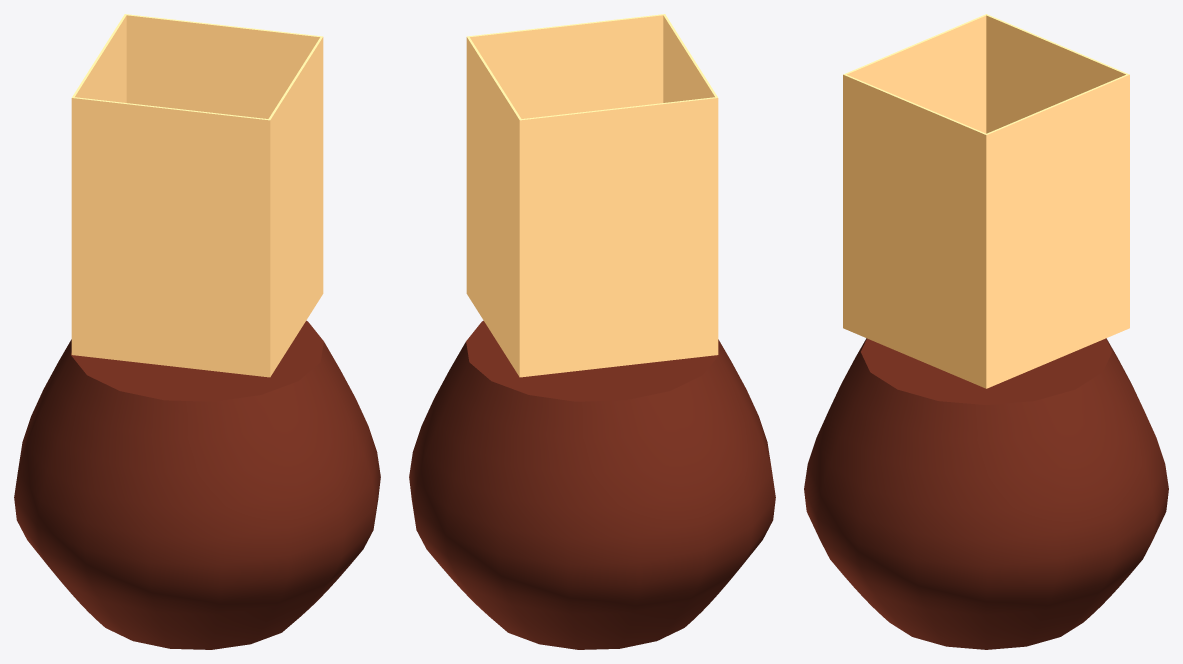
The model's file is Table_Lamp_AppleBase_SquareShade.fbx.
3 renders of one model, left to right at view 1: azimuth 30°, elevation 25°; view 2: azimuth 150°, elevation 25°; view 3: azimuth 270°, elevation 25°, orthographic.
Parts seen in each view (by area): view 1: Table_Lamp_AppleBase_SquareShade; view 2: Table_Lamp_AppleBase_SquareShade; view 3: Table_Lamp_AppleBase_SquareShade.
Boxes of the visible parts, x1,y1,x2,y2 form: Table_Lamp_AppleBase_SquareShade: [14, 14, 380, 649]; Table_Lamp_AppleBase_SquareShade: [409, 14, 775, 649]; Table_Lamp_AppleBase_SquareShade: [804, 14, 1168, 649].
Bounding box in the file's own units: 39.12 × 62.8 × 39.12.
